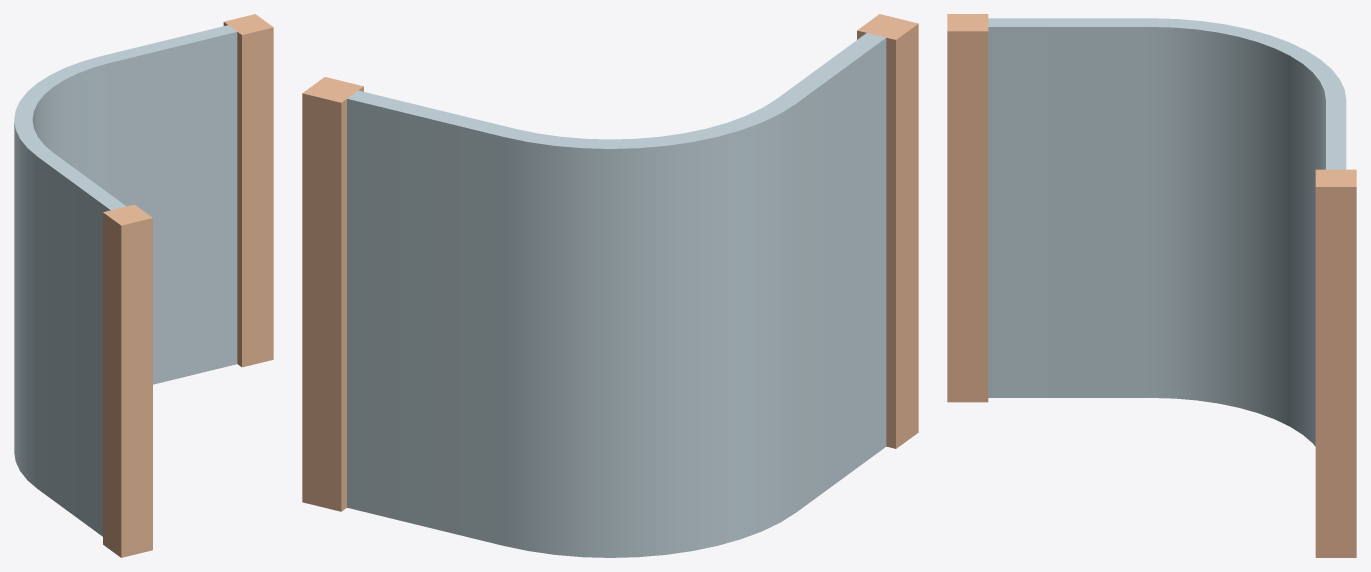
The model's file is wallRounded.glb.
The picture shows the model from 3 angles, left to right: view 1: azimuth 30°, elevation 25°; view 2: azimuth 150°, elevation 25°; view 3: azimuth 270°, elevation 25°; orthographic projection. The views are drawn at different scales.
Visible parts, largest first — view 1: wallRounded; view 2: wallRounded; view 3: wallRounded.
Part boxes in pixels (x1,y1,x2,y2): wallRounded: [14, 14, 273, 557]; wallRounded: [302, 14, 918, 557]; wallRounded: [947, 14, 1356, 557].
Bounding box in the file's own units: 1 × 1 × 1.
